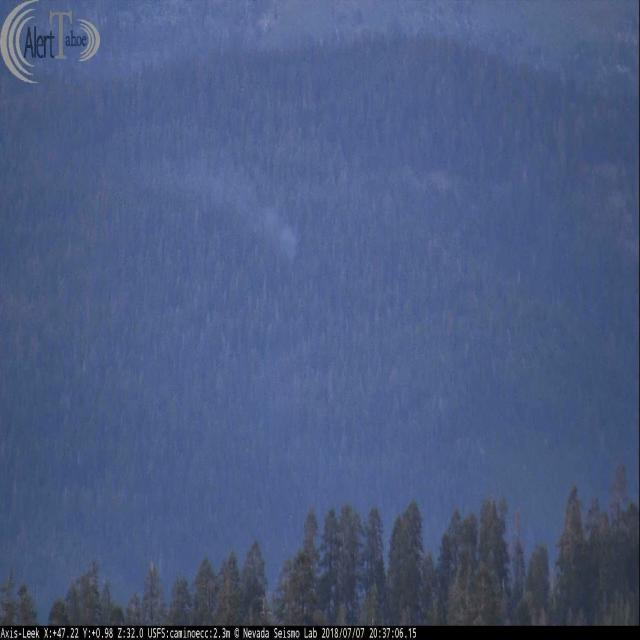smoke: (238, 188, 297, 266)
